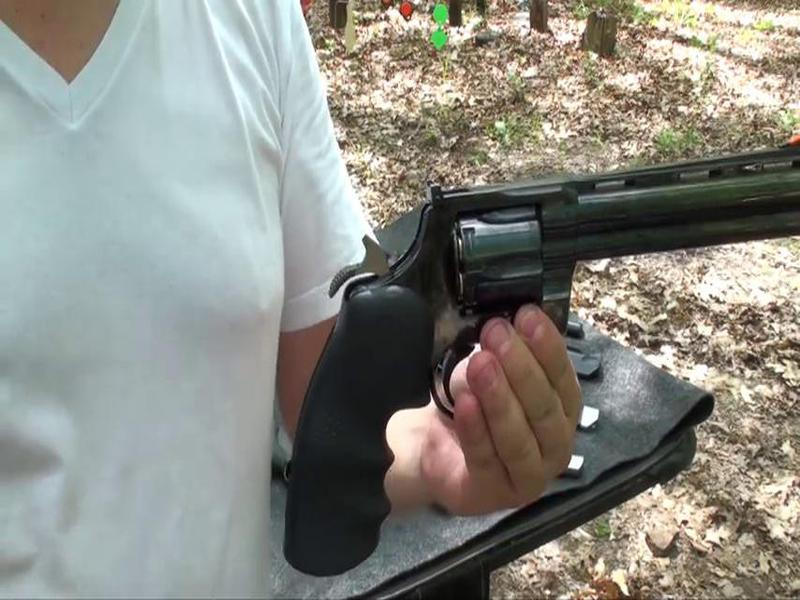Revolver: (286, 130, 800, 428)
